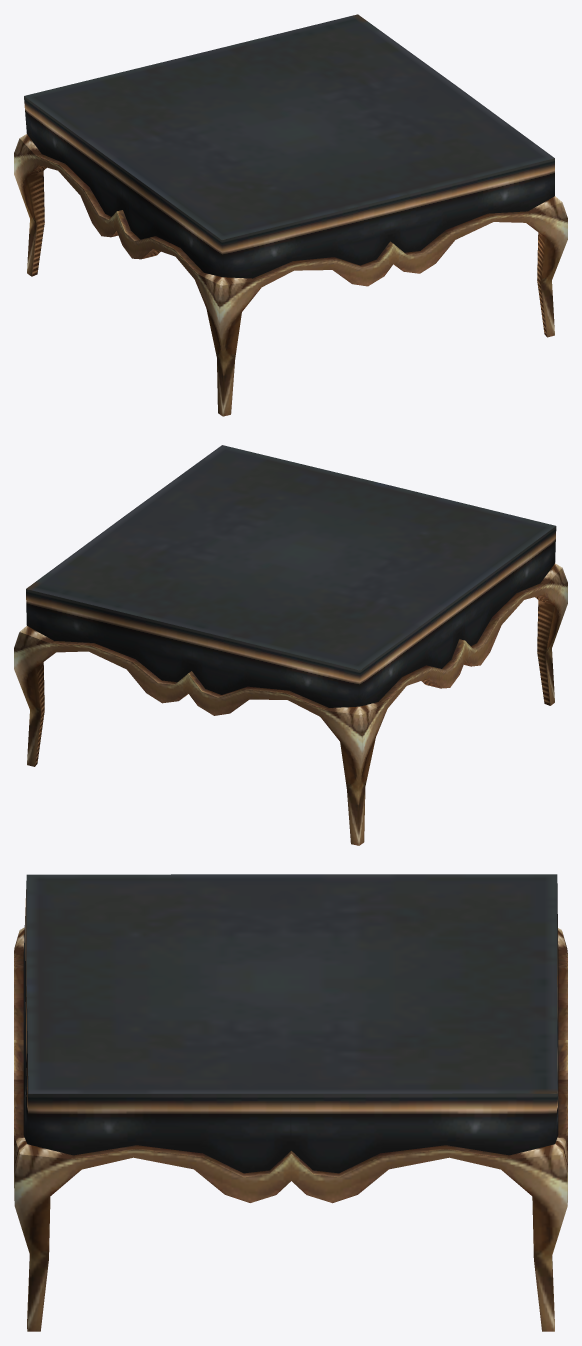
Rendered from furni_0200343_03.FBX.
The picture shows the model from 3 angles, top to bottom: view 1: azimuth 30°, elevation 25°; view 2: azimuth 150°, elevation 25°; view 3: azimuth 270°, elevation 25°; orthographic projection. The views are drawn at different scales.
Parts seen in each view (by area): view 1: furni_0200343; view 2: furni_0200343; view 3: furni_0200343.
Part boxes in pixels (<box>): furni_0200343: <box>14,14,567,416</box>; furni_0200343: <box>14,445,567,845</box>; furni_0200343: <box>14,874,567,1331</box>.
Bounding box in the file's own units: 103 × 49.83 × 105.
Materials: 1 (1 with a texture image).
